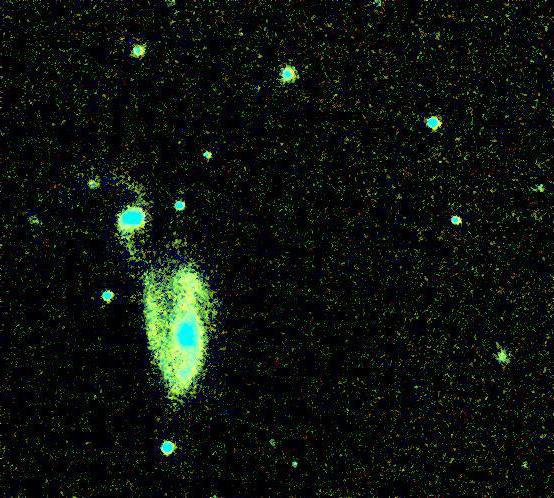star: (163, 226, 193, 256)
